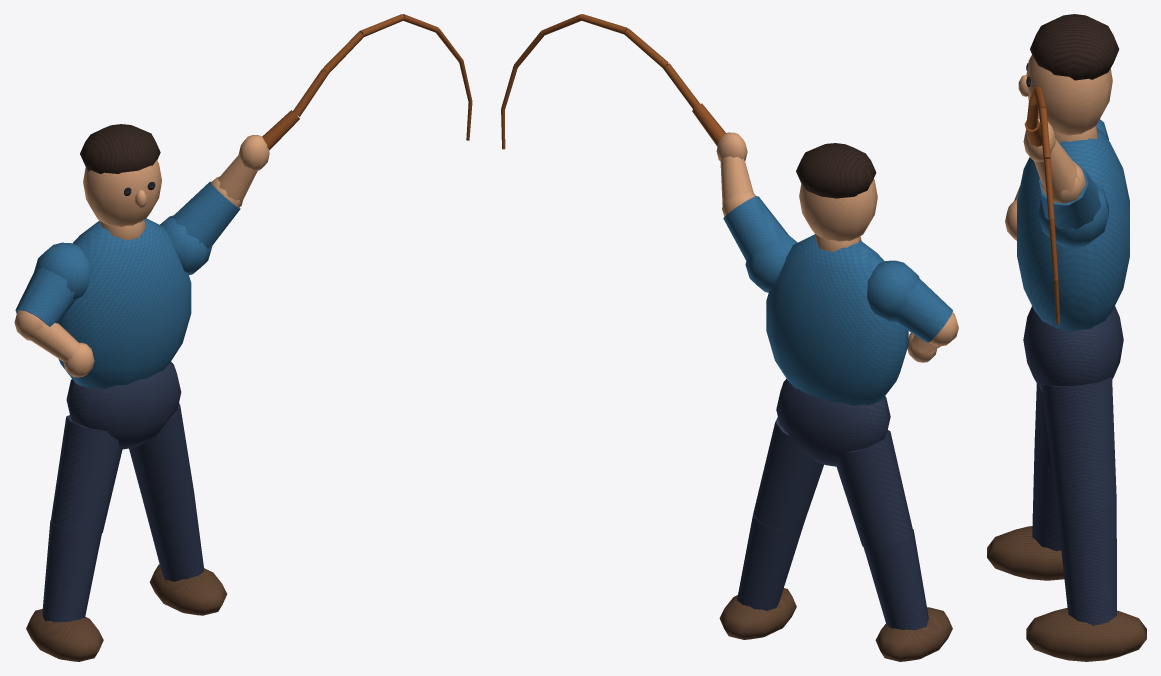
Rendered from char.obj.
The picture shows the model from 3 angles, left to right: view 1: azimuth 30°, elevation 25°; view 2: azimuth 150°, elevation 25°; view 3: azimuth 270°, elevation 25°; orthographic projection. The views are drawn at different scales.
Visible parts, largest first — view 1: Torso, LeftTrouserUpper, Pelvis, LeftTrouserLower, RightTrouserUpper, RightTrouserLower, Head, Hair, LeftShoe, RightShoe, RightSleeve, LeftSleeve (+6 smaller); view 2: Torso, Pelvis, LeftTrouserUpper, RightTrouserUpper, LeftTrouserLower, RightTrouserLower, Hair, Head, LeftShoe, RightSleeve, RightShoe, LeftShoulder (+4 smaller); view 3: Torso, RightTrouserUpper, RightTrouserLower, Pelvis, RightShoe, Hair, Head, LeftShoe, LeftTrouserLower, RightSleeve, RightShoulder, RightForearm (+10 smaller).
Boxes of the visible parts, <box> form: Torso: <box>58,218,191,388</box>; LeftTrouserUpper: <box>51,415,122,535</box>; Pelvis: <box>66,361,181,449</box>; LeftTrouserLower: <box>42,520,101,622</box>; RightTrouserUpper: <box>129,403,193,508</box>; RightTrouserLower: <box>142,491,204,581</box>; Head: <box>83,160,161,226</box>; Hair: <box>80,124,160,173</box>; LeftShoe: <box>26,609,103,661</box>; RightShoe: <box>149,564,226,615</box>; RightSleeve: <box>171,181,240,248</box>; LeftSleeve: <box>15,266,74,326</box>; Torso: <box>766,234,908,405</box>; Pelvis: <box>776,379,890,466</box>; LeftTrouserUpper: <box>836,430,912,549</box>; RightTrouserUpper: <box>753,417,823,531</box>; LeftTrouserLower: <box>863,529,928,630</box>; RightTrouserLower: <box>737,514,803,610</box>; Hair: <box>796,143,876,198</box>; Head: <box>799,179,877,241</box>; LeftShoe: <box>875,607,952,661</box>; RightSleeve: <box>723,196,787,260</box>; RightShoe: <box>719,588,796,639</box>; LeftShoulder: <box>867,260,919,321</box>; Torso: <box>1017,128,1129,330</box>; RightTrouserUpper: <box>1041,377,1116,509</box>; RightTrouserLower: <box>1056,503,1116,625</box>; Pelvis: <box>1023,306,1123,392</box>; RightShoe: <box>1026,607,1146,661</box>; Hair: <box>1030,14,1119,80</box>; Head: <box>1026,55,1112,135</box>; LeftShoe: <box>987,526,1064,580</box>; LeftTrouserLower: <box>1032,437,1061,551</box>; RightSleeve: <box>1039,160,1101,229</box>; RightShoulder: <box>1038,180,1108,247</box>; RightForearm: <box>1034,138,1081,197</box>.
Size of the model in its own units: 2.86 by 3.35 by 0.7316.
7 materials, 7 textured.
